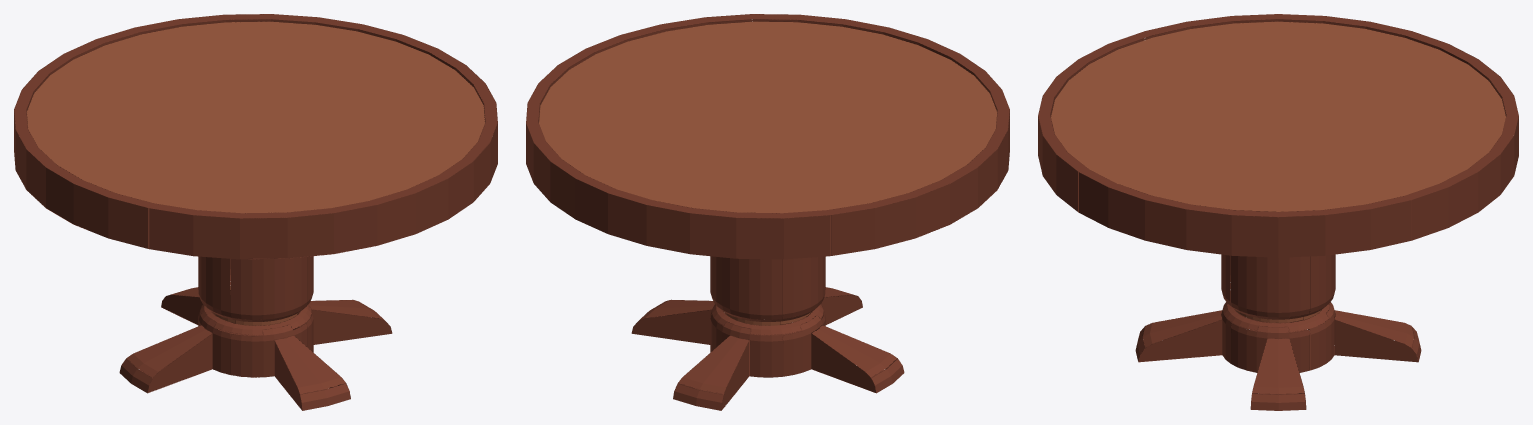
The model's file is Customer_Table.fbx.
3 renders of one model, left to right at view 1: azimuth 30°, elevation 25°; view 2: azimuth 150°, elevation 25°; view 3: azimuth 270°, elevation 25°, orthographic.
Parts seen in each view (by area): view 1: Table; view 2: Table; view 3: Table.
Part boxes in pixels (left/top/right/bottom): Table: left=14, top=14, right=497, bottom=410; Table: left=526, top=14, right=1009, bottom=410; Table: left=1038, top=14, right=1518, bottom=410.
Size of the model in its own units: 386 by 208 by 386.
